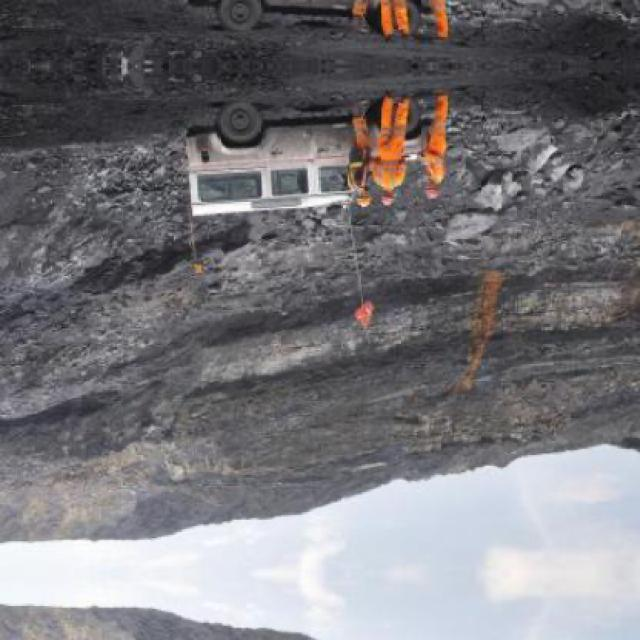con casco: (404, 163, 453, 209), (345, 187, 385, 225), (382, 183, 406, 206)
